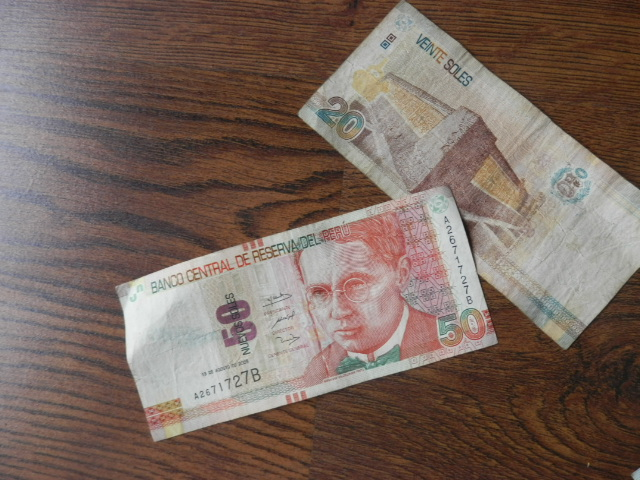B20: (301, 7, 638, 200)
B50: (111, 223, 497, 409)
